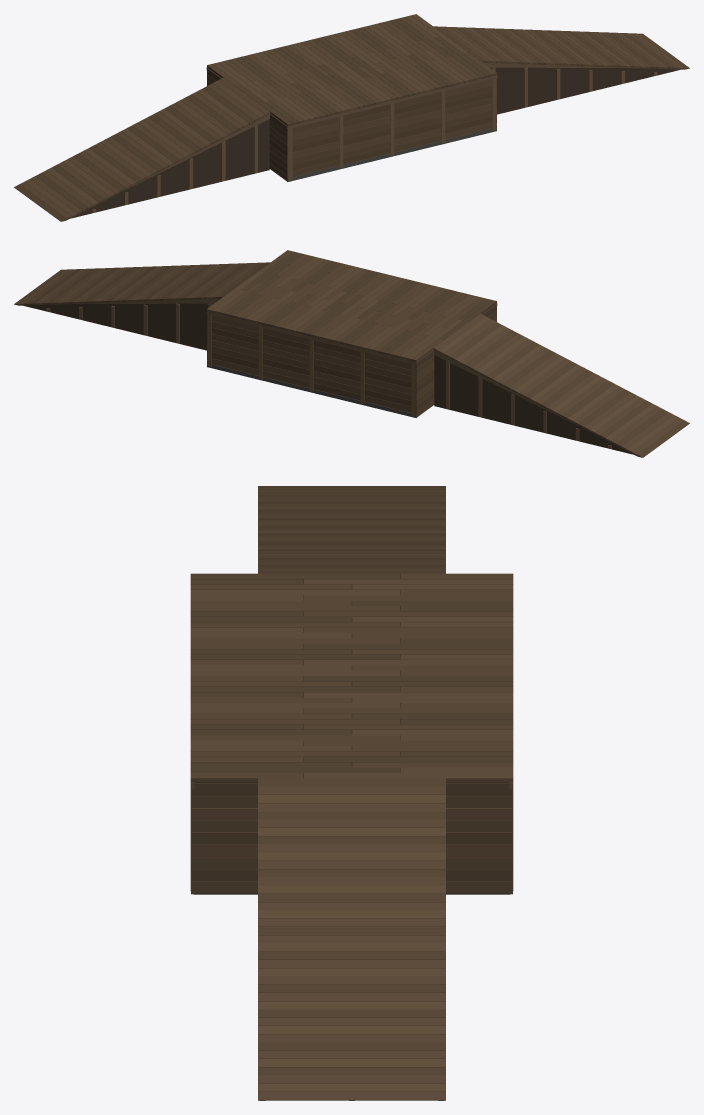
Rendered from deck.glb.
3 views of the same model, one above another, from view 1: azimuth 30°, elevation 25°; view 2: azimuth 150°, elevation 25°; view 3: azimuth 270°, elevation 25° (orthographic). The views are drawn at different scales.
Visible parts, largest first — view 1: LoadingDeck; view 2: LoadingDeck; view 3: LoadingDeck.
Boxes of the visible parts, x1,y1,x2,y2 form: LoadingDeck: (14,14,689,221); LoadingDeck: (14,250,689,457); LoadingDeck: (190,486,513,1100).
Bounding box in the file's own units: 27 × 2.42 × 6.
